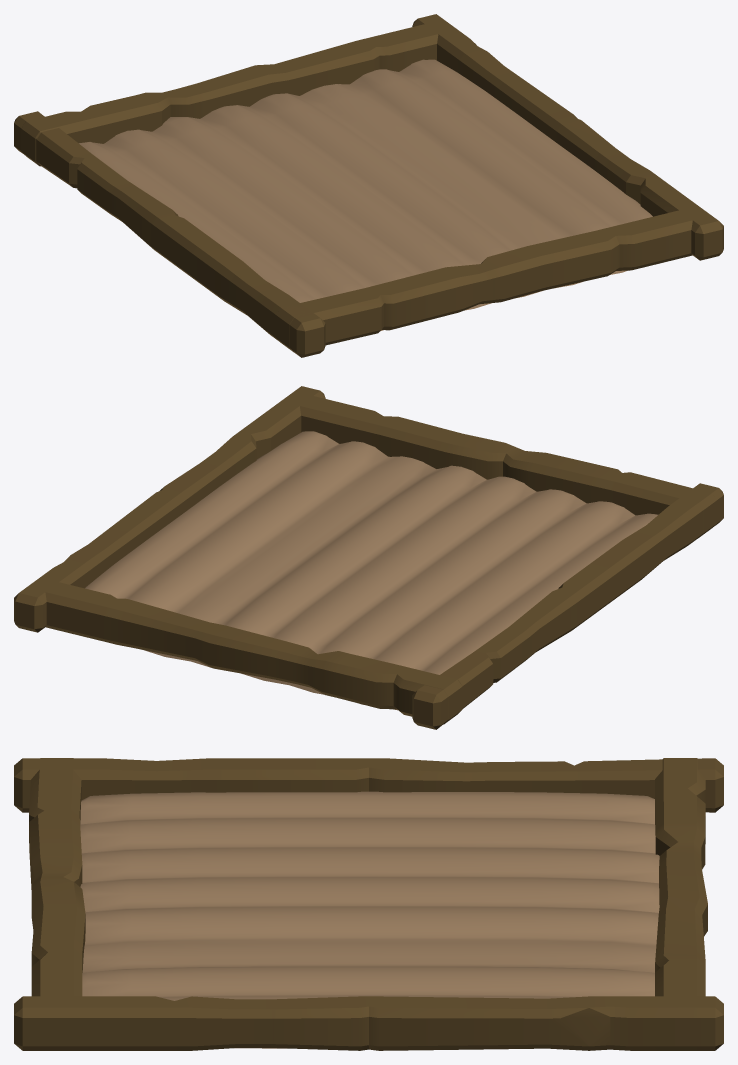
File: MagrCrop.fbx
3 renders of one model, top to bottom at view 1: azimuth 30°, elevation 25°; view 2: azimuth 150°, elevation 25°; view 3: azimuth 270°, elevation 25°, orthographic. The views are drawn at different scales.
Parts seen in each view (by area): view 1: Crop_Small.001, Crop_Small; view 2: Crop_Small.001, Crop_Small; view 3: Crop_Small.001, Crop_Small.
Part boxes in pixels (x1=…): Crop_Small.001: x1=79, y1=59, x2=652, y2=331; Crop_Small: x1=14, y1=14, x2=723, y2=357; Crop_Small.001: x1=85, y1=431, x2=658, y2=710; Crop_Small: x1=14, y1=386, x2=723, y2=729; Crop_Small.001: x1=80, y1=791, x2=659, y2=1048; Crop_Small: x1=14, y1=758, x2=723, y2=1050.
Bounding box in the file's own units: 448 × 53.33 × 526.
